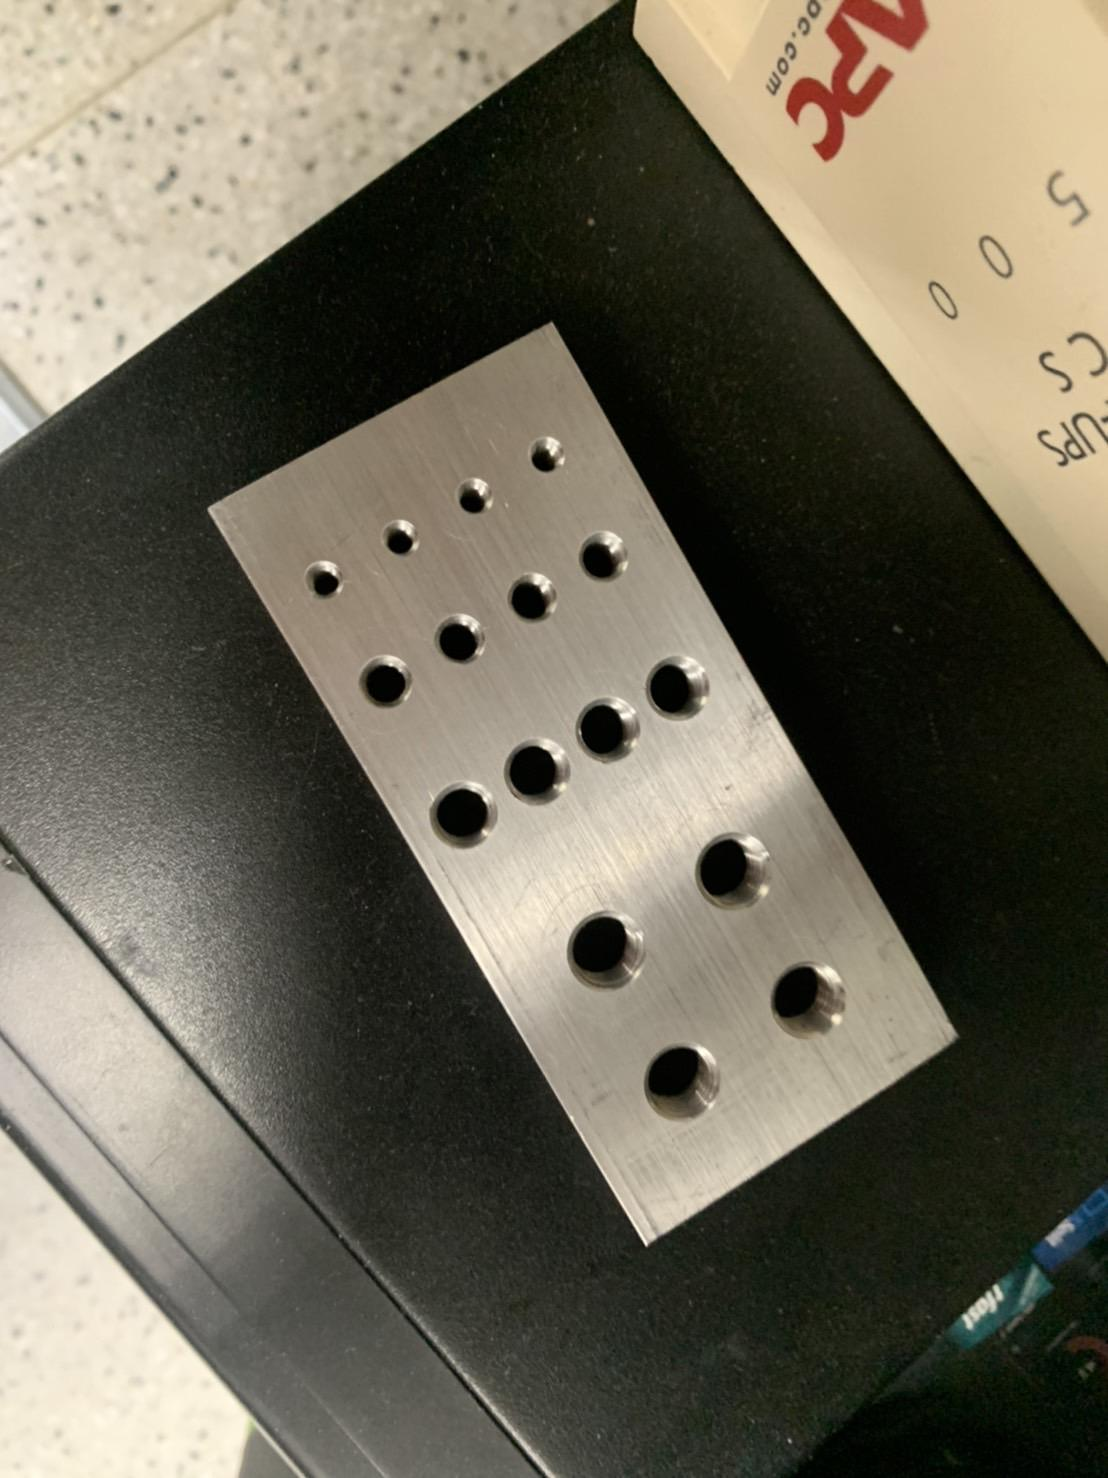hole: (688, 827, 776, 918), (765, 952, 853, 1043), (635, 1039, 727, 1123), (561, 903, 645, 994), (422, 774, 502, 852), (503, 738, 574, 810), (644, 648, 711, 724), (575, 695, 644, 766), (574, 525, 631, 589), (356, 651, 416, 710), (507, 564, 561, 626), (433, 610, 489, 666), (299, 554, 346, 602), (376, 516, 424, 560), (450, 474, 493, 519), (527, 435, 570, 476)
